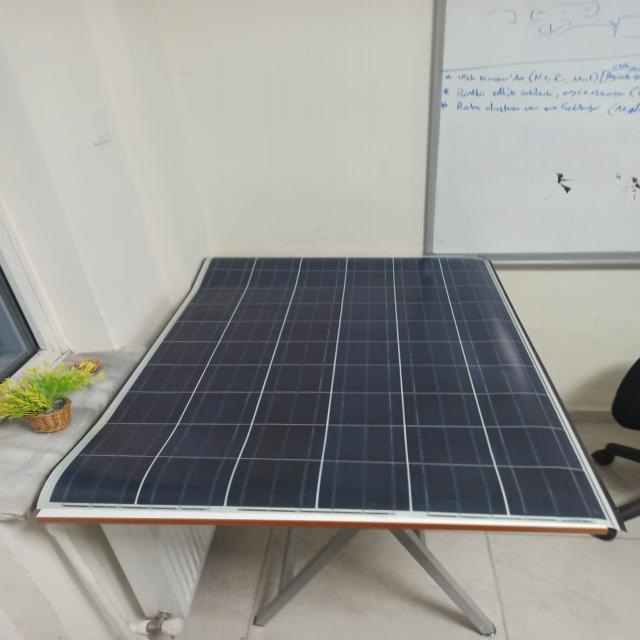no faulty: (39, 256, 616, 546)
